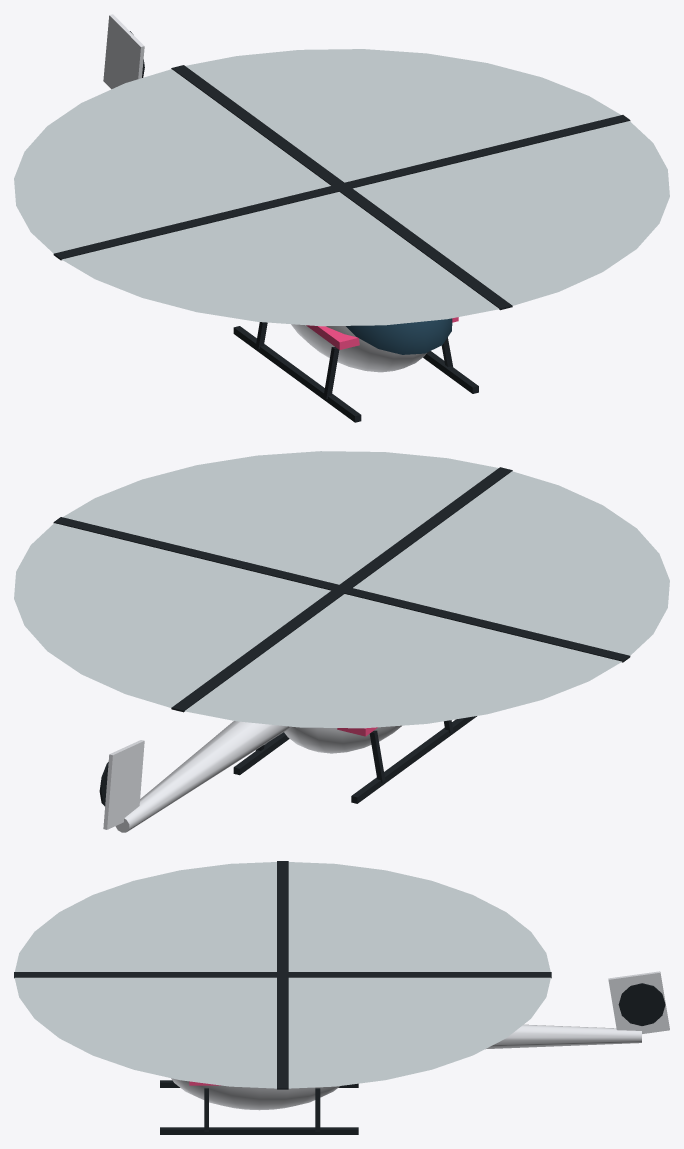
The model's file is helicopter.glb.
3 views of the same model, one above another, from view 1: azimuth 30°, elevation 25°; view 2: azimuth 150°, elevation 25°; view 3: azimuth 270°, elevation 25° (orthographic). The views are drawn at different scales.
Parts seen in each view (by area): view 1: rotor blur, heli dark, heli paint, heli glass, heli stripe; view 2: rotor blur, heli dark, heli paint; view 3: rotor blur, heli dark, heli paint.
Part boxes in pixels (x1=…): rotor blur: x1=14, y1=49, x2=669, y2=326; heli dark: x1=53, y1=31, x2=630, y2=422; heli paint: x1=103, y1=14, x2=426, y2=372; heli glass: x1=346, y1=318, x2=452, y2=354; heli stripe: x1=306, y1=317, x2=458, y2=349; rotor blur: x1=14, y1=451, x2=669, y2=728; heli dark: x1=53, y1=467, x2=630, y2=806; heli paint: x1=103, y1=721, x2=401, y2=832; rotor blur: x1=14, y1=862, x2=550, y2=1088; heli dark: x1=14, y1=861, x2=665, y2=1134; heli paint: x1=171, y1=971, x2=669, y2=1110.
Bounding box in the file's own units: 9.2 × 2.61 × 11.23.
